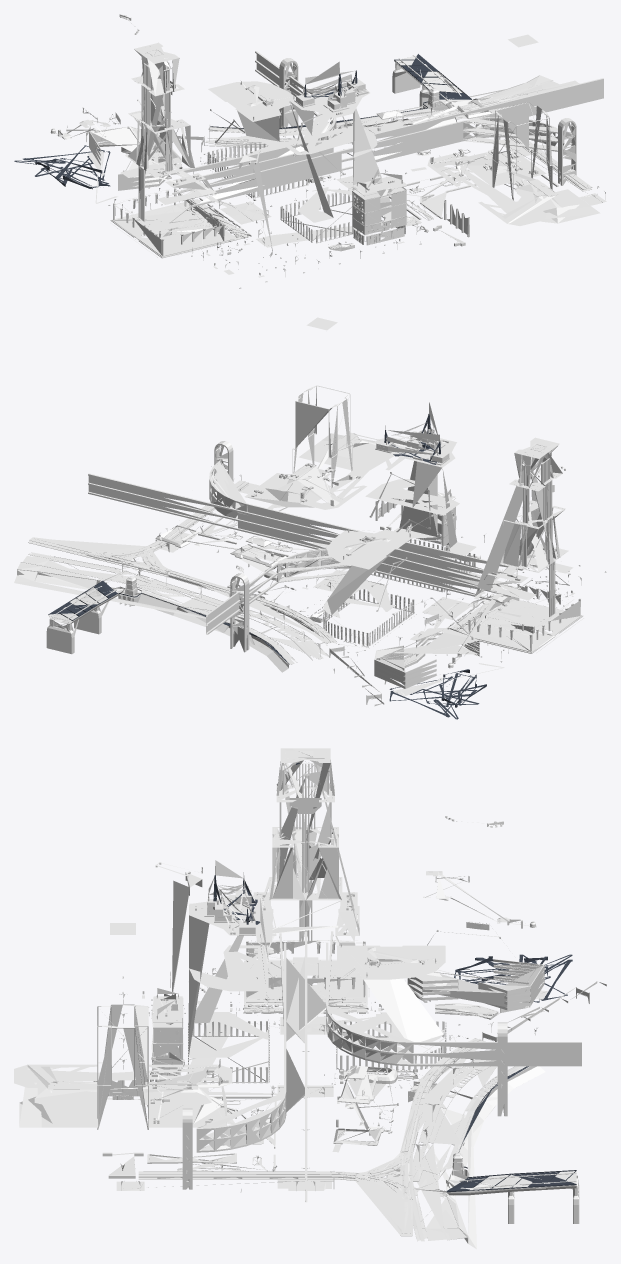
The model's file is street_island1_05.glb.
3 views of the same model, one above another, from view 1: azimuth 30°, elevation 25°; view 2: azimuth 150°, elevation 25°; view 3: azimuth 270°, elevation 25° (orthographic). The views are drawn at different scales.
Parts seen in each view (by area): view 1: seg_628, seg_1109, seg_658, seg_1358, seg_600, seg_657, seg_1356, seg_1458, seg_1324, seg_1339, seg_1482, seg_1277 (+32 smaller); view 2: seg_1109, seg_691, seg_628, seg_658, seg_657, seg_1358, seg_600, seg_1277, seg_1356, seg_1339, seg_1458, seg_684 (+19 smaller); view 3: seg_628, seg_1109, seg_658, seg_691, seg_657, seg_1277, seg_1324, seg_1353, seg_1458, seg_1364, seg_600, seg_1358 (+28 smaller).
Part boxes in pixels (x1,y1,x2,y2): seg_628: (427,149,600,225); seg_1109: (120,42,219,204); seg_658: (281,88,390,222); seg_1358: (170,143,341,207); seg_600: (110,199,248,258); seg_657: (208,81,295,159); seg_1356: (341,114,463,170); seg_1458: (492,102,552,200); seg_1324: (138,61,172,221); seg_1339: (455,78,603,127); seg_1482: (186,175,421,247); seg_1277: (89,126,168,190); seg_1109: (474,437,573,600); seg_691: (14,552,258,633); seg_628: (244,432,406,509); seg_658: (365,438,476,559); seg_657: (323,529,413,617); seg_1358: (375,542,523,603); seg_600: (451,594,582,653); seg_1277: (374,627,479,688); seg_1356: (237,503,364,549); seg_1339: (88,473,237,529); seg_1458: (292,385,352,488); seg_684: (224,613,329,672); seg_628: (14,1064,232,1127); seg_1109: (252,748,359,953); seg_658: (188,895,268,1057); seg_691: (413,1106,483,1249); seg_657: (337,945,445,1045); seg_1277: (407,959,544,1010); seg_1324: (277,763,331,941); seg_1353: (413,1042,581,1066); seg_1458: (97,1004,148,1129); seg_1364: (196,1091,286,1152); seg_600: (244,960,367,1012); seg_1358: (279,931,333,1043).
Bounding box in the file's own units: 488 × 196 × 422.
